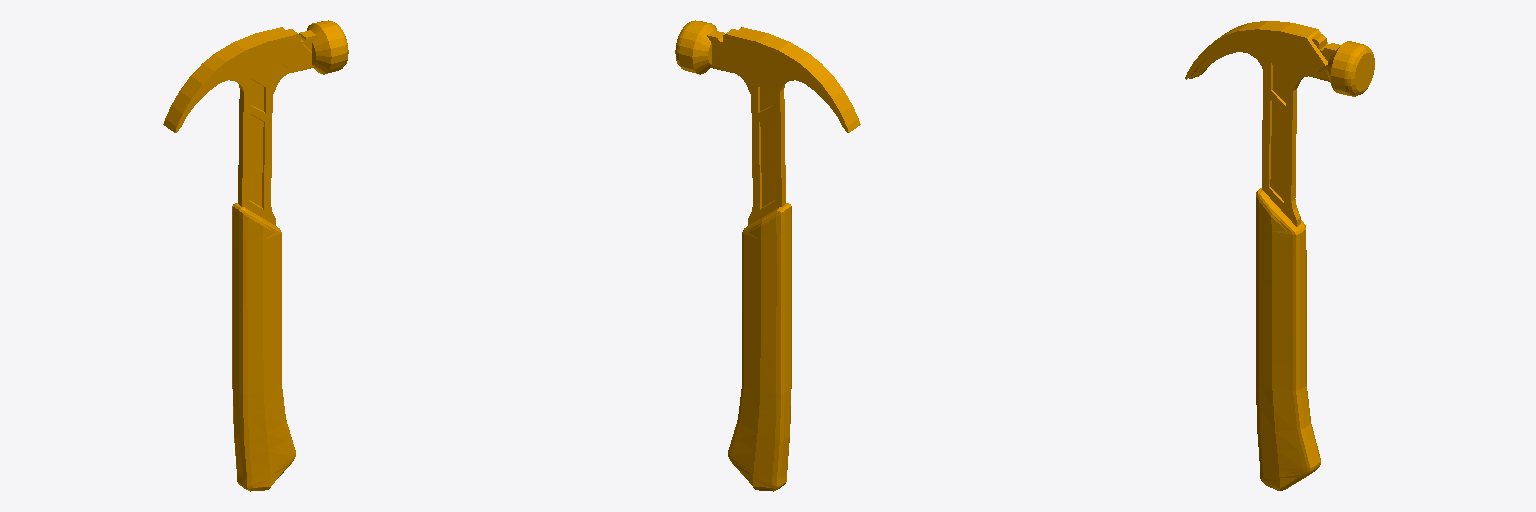
robot.urdf — hammer:
<?xml version="1.0"?>
<robot name="hammer">
  <link name="base_link">
    <inertial>
      <mass value="0.1" />
      <origin xyz="0 0 0" />
      <inertia  ixx="0.0002" ixy="0.0"  ixz="0.0"  iyy="0.0002"  iyz="0.0" izz="0.0002" />
    </inertial>
    <visual>
      <geometry>
        <mesh filename="assets/base.obj" />
      </geometry>
    </visual>
    <collision>
      <geometry>
        <mesh filename="assets/base.obj" />
      </geometry>
    </collision>
  </link>
</robot>

--- Render facts (derived) ---
The picture shows the robot from 3 angles, left to right: view 1: azimuth 30°, elevation 25°; view 2: azimuth 150°, elevation 25°; view 3: azimuth 330°, elevation 25°; orthographic projection.
Model hammer with 1 links and 0 joints (none), rooted at base_link, posed every joint at zero.
Visible links, largest first — view 1: base_link; view 2: base_link; view 3: base_link.
Link boxes in pixels (bbox=[...]): base_link: bbox=[163, 20, 348, 491]; base_link: bbox=[675, 20, 860, 491]; base_link: bbox=[1185, 21, 1374, 490].
Size in the robot's own frame: 0.1227 by 0.033 by 0.311 metres.
Meshes: 1 distinct files referenced, 1 mesh visuals loaded (1 OBJ).